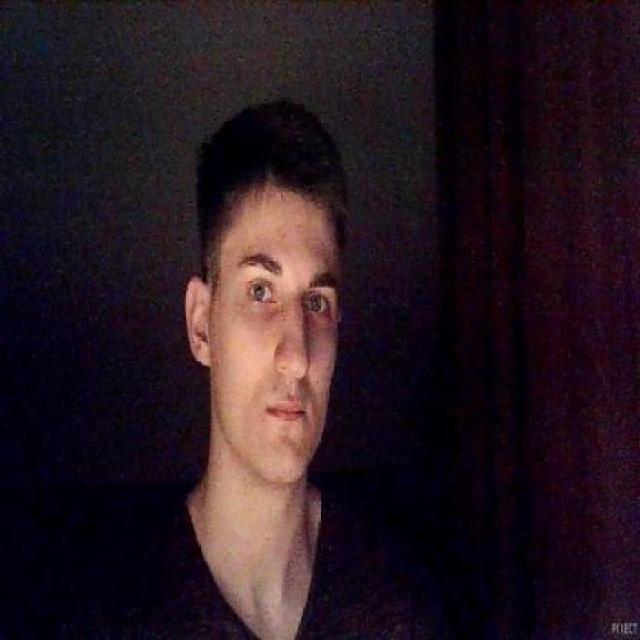awake: (246, 278, 274, 307), (306, 290, 328, 318)
